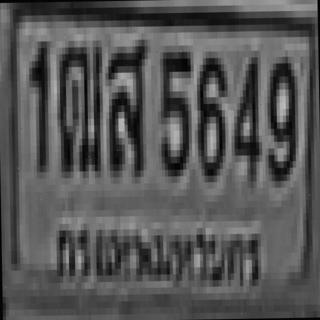A18: (56, 37, 103, 175)
A40: (104, 34, 150, 178)
N01: (27, 38, 50, 172)
N04: (231, 50, 262, 184)
N05: (158, 42, 191, 173)
N06: (194, 54, 227, 178)
N09: (263, 53, 299, 185)
P04: (48, 208, 269, 307)
